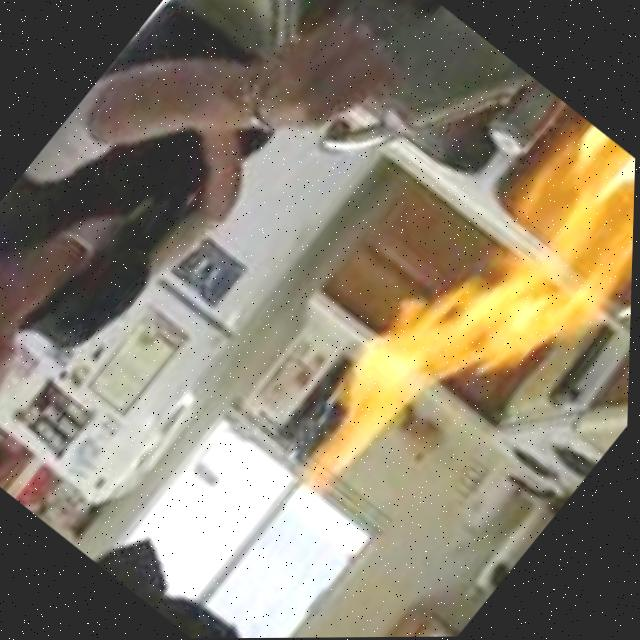Fire: (262, 102, 638, 602)
